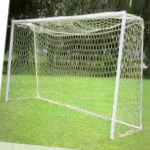goals: (5, 9, 146, 140)
